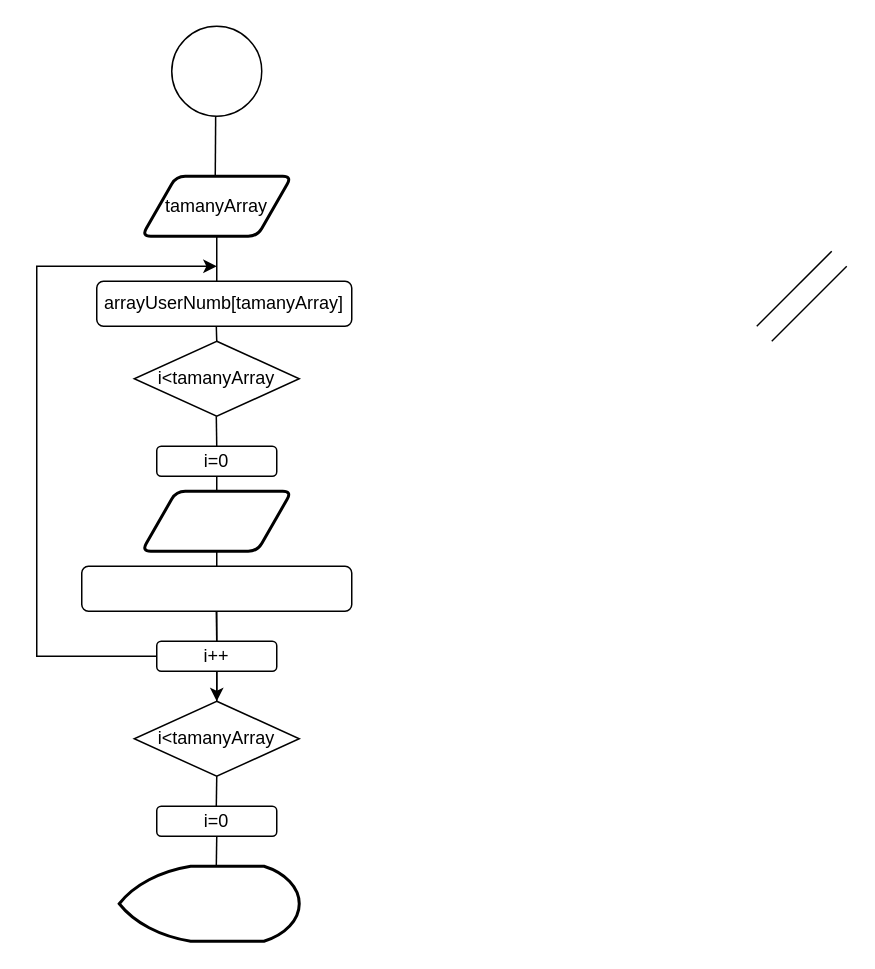
Some shapes in this 875 by 969 pixel diagram are drawn without their labels. Each missing label, with the centre of its shape:
arrayUserNumb[i]: (208,903)
arrayUserNumb[i]=userNumb: (216,588)
START: (216,70)
userNumb: (216,520)
